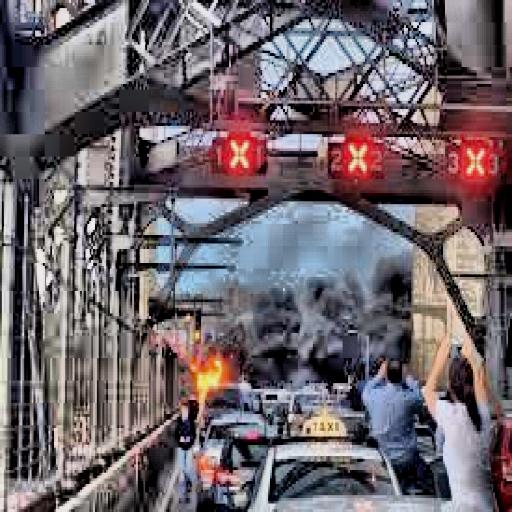fire: (164, 324, 244, 408)
